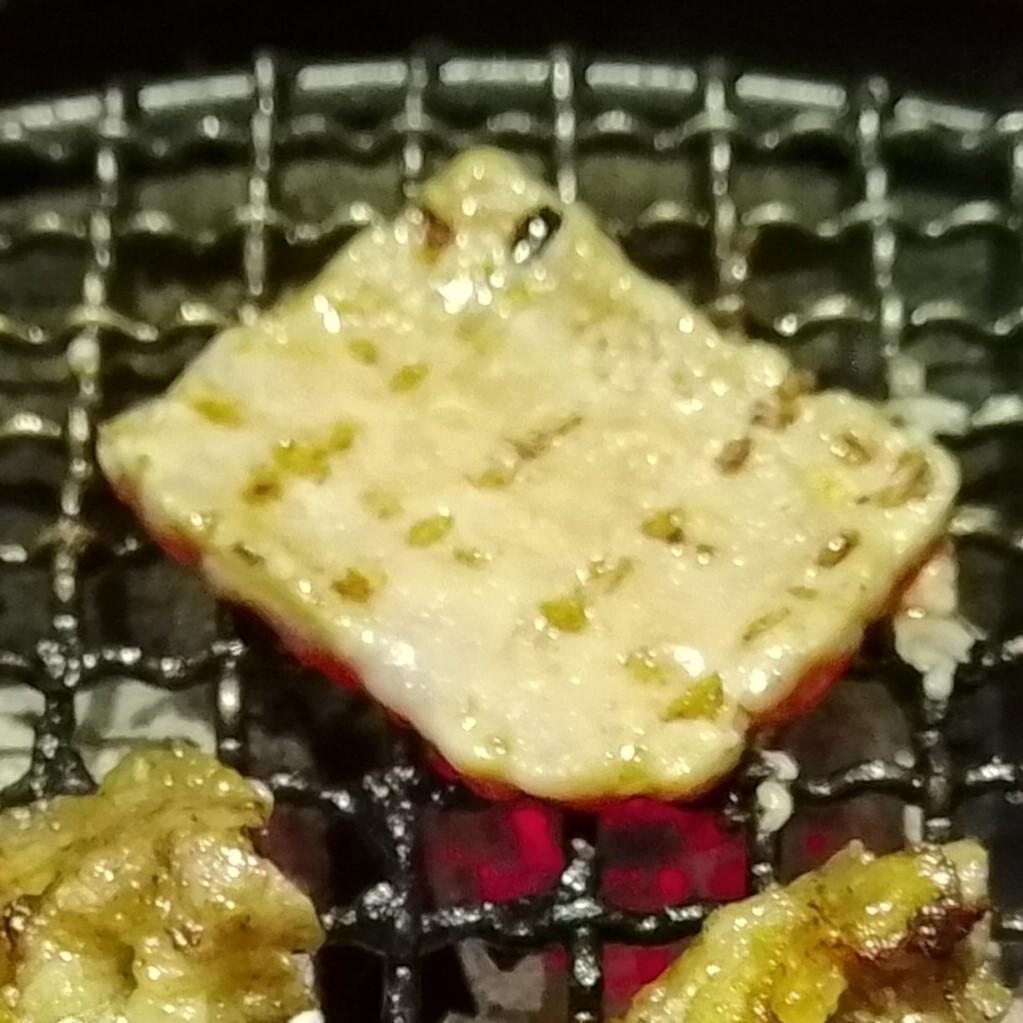Overcooked: (615, 841, 1022, 1022)
Well-Cooked: (97, 146, 960, 815), (0, 746, 323, 1022)
